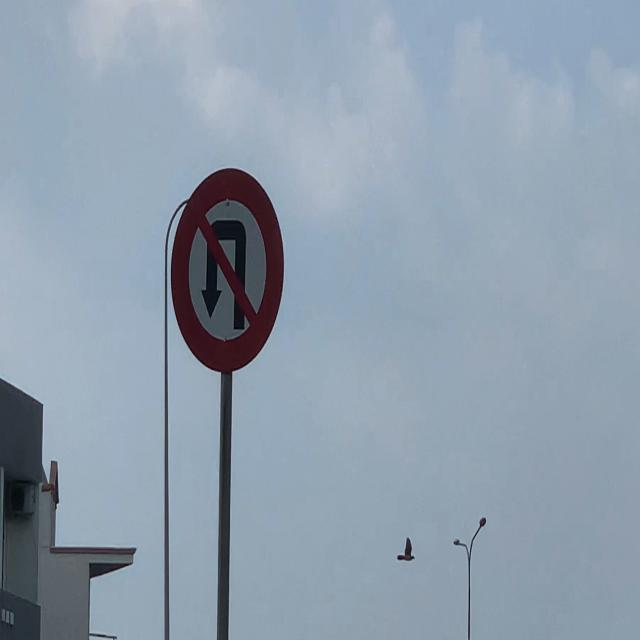Cam quay dau xe: (171, 161, 283, 386)
